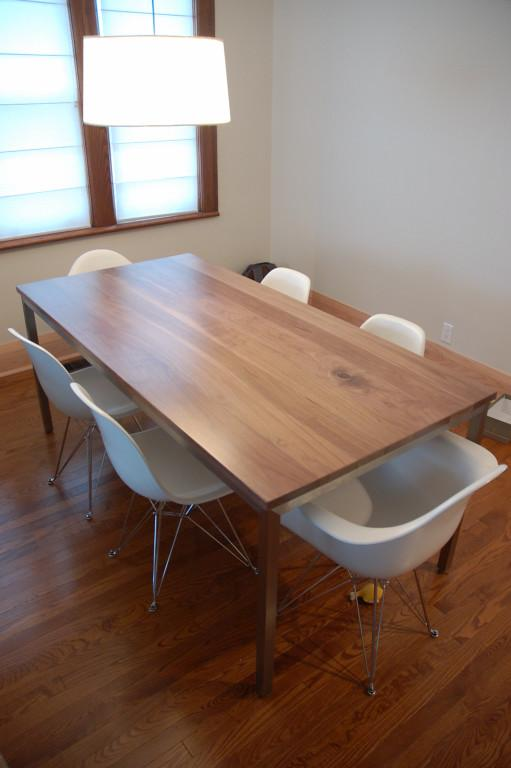table: (16, 251, 504, 697)
